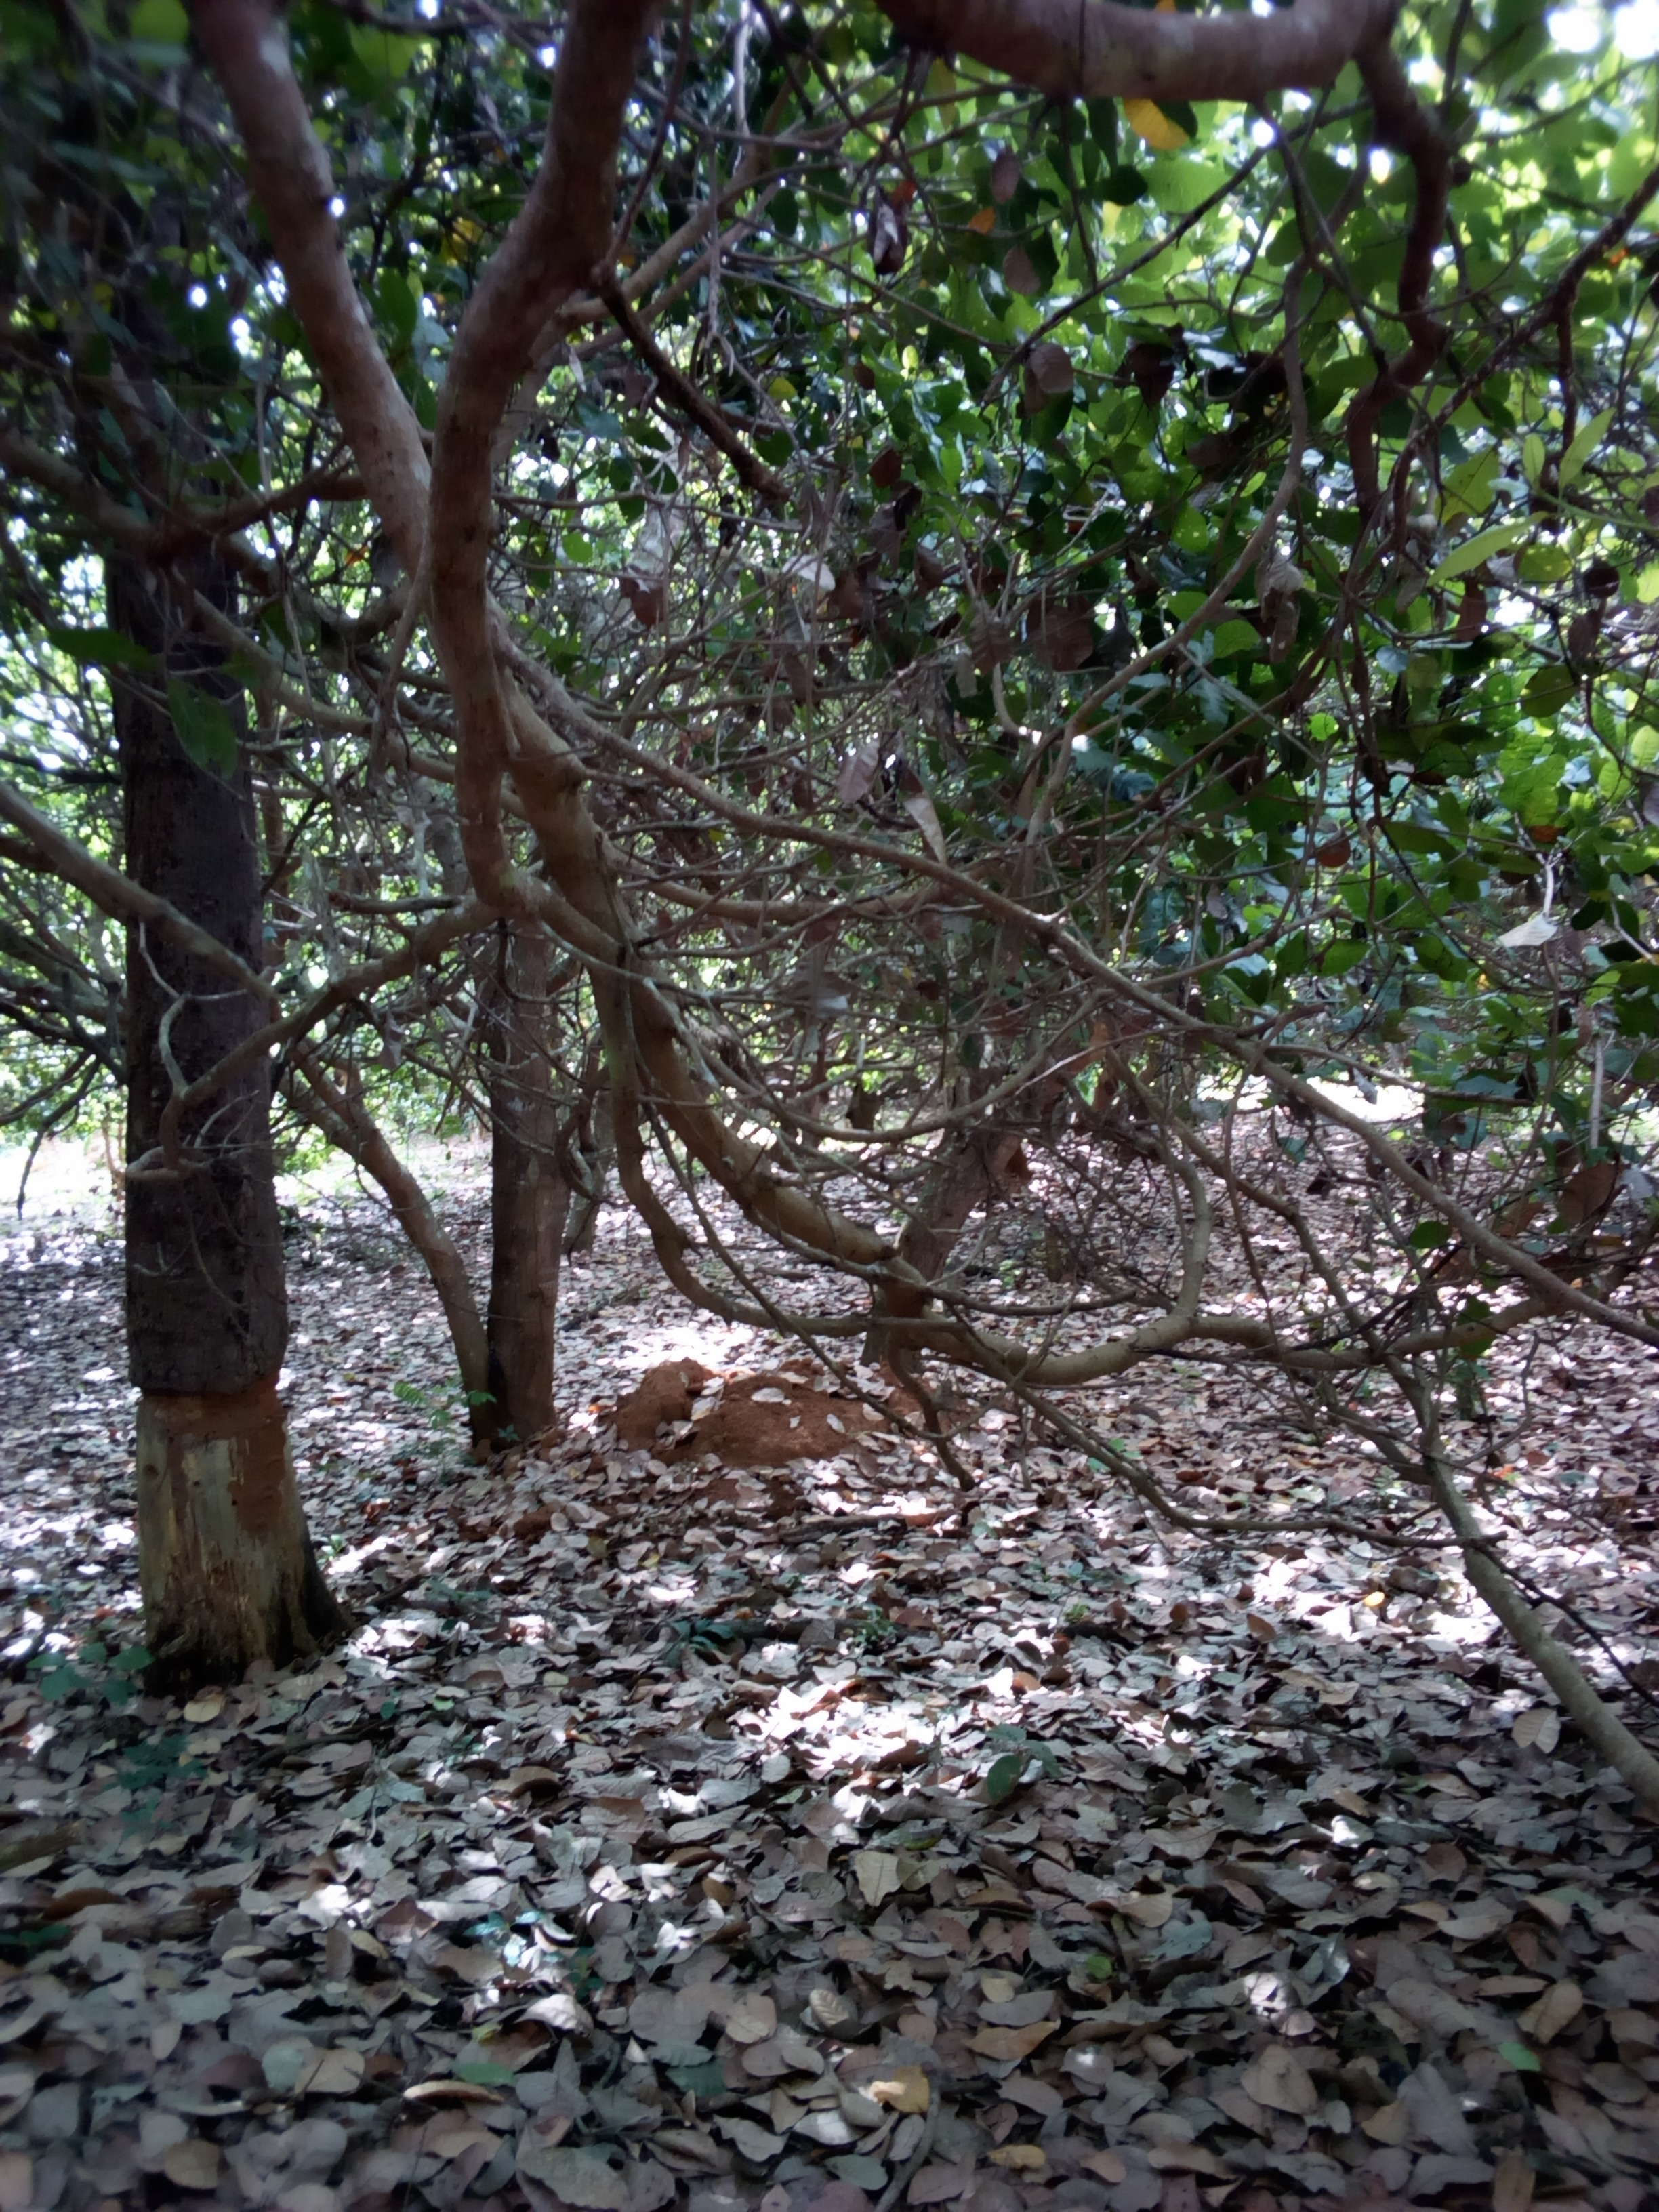Analepse trifasciata: (47, 1249, 352, 1482)
